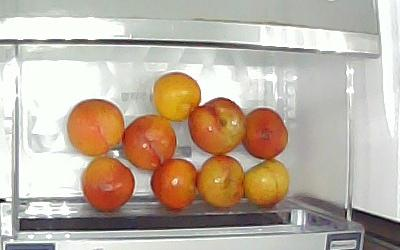prune: (188, 97, 247, 155), (66, 99, 125, 156), (121, 115, 176, 170), (83, 157, 136, 211), (198, 155, 245, 208), (243, 108, 290, 160), (245, 158, 292, 209), (153, 73, 201, 122), (151, 159, 197, 210)
